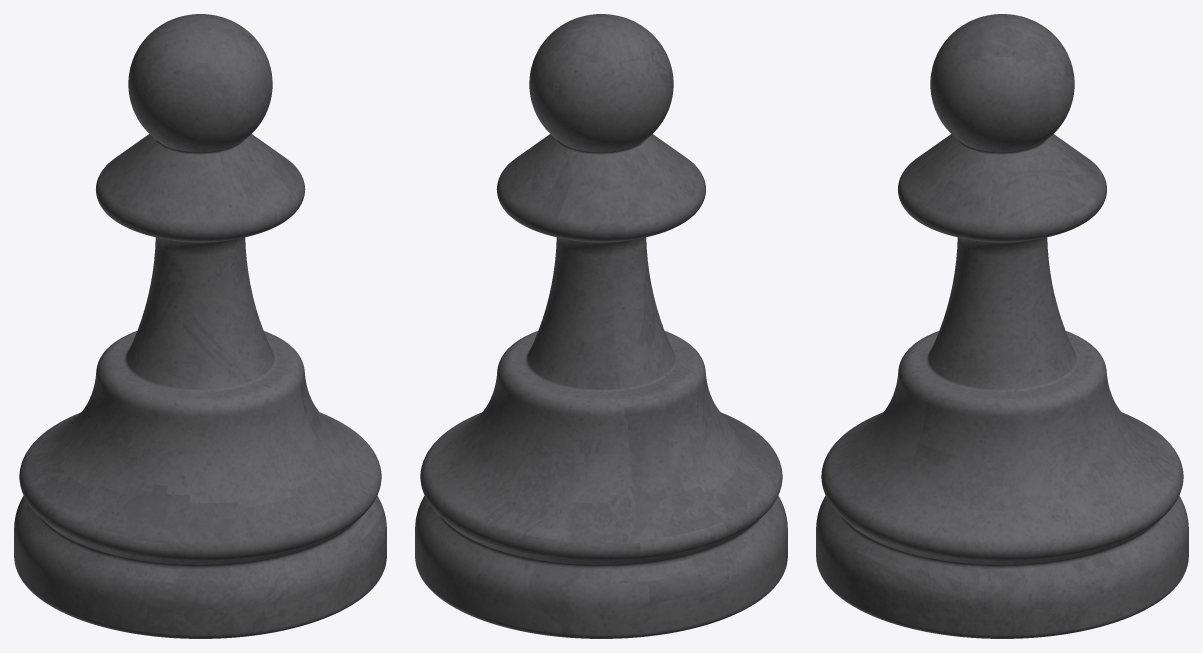
Rendered from bpawn.glb.
3 renders of one model, left to right at view 1: azimuth 30°, elevation 25°; view 2: azimuth 150°, elevation 25°; view 3: azimuth 270°, elevation 25°, orthographic.
Visible parts, largest first — view 1: Pawn.001; view 2: Pawn.001; view 3: Pawn.001.
Part boxes in pixels (bbox=[...]): Pawn.001: bbox=[14, 14, 386, 638]; Pawn.001: bbox=[415, 14, 787, 638]; Pawn.001: bbox=[816, 14, 1188, 638].
Bounding box in the file's own units: 0.025 × 0.04 × 0.025.
1 material, 1 textured.
